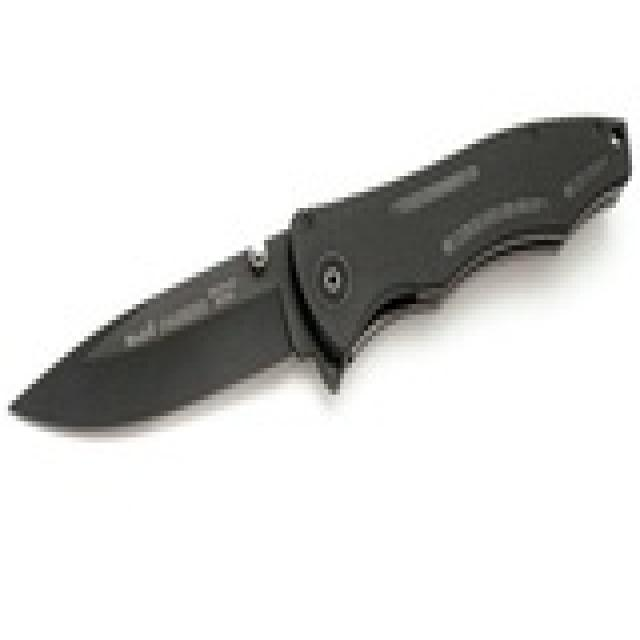Knife: (8, 100, 638, 460)
